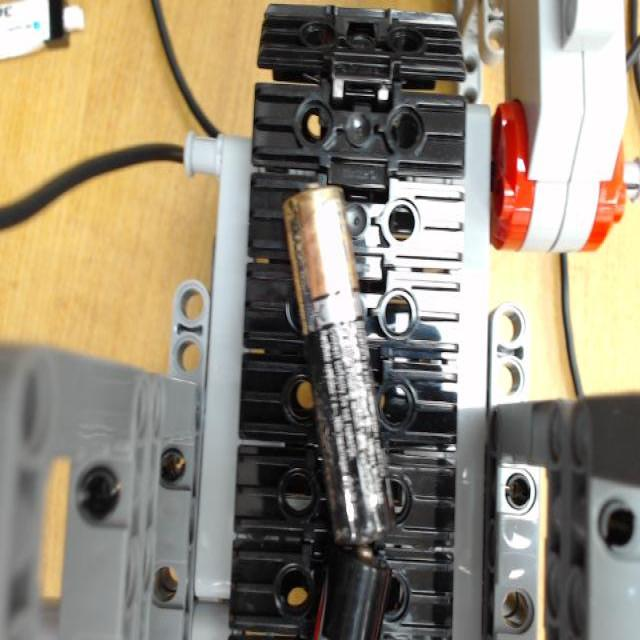AAA: (276, 174, 388, 538)
